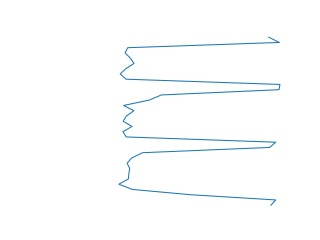majorRiverChannelBar: (118, 38, 283, 206)
